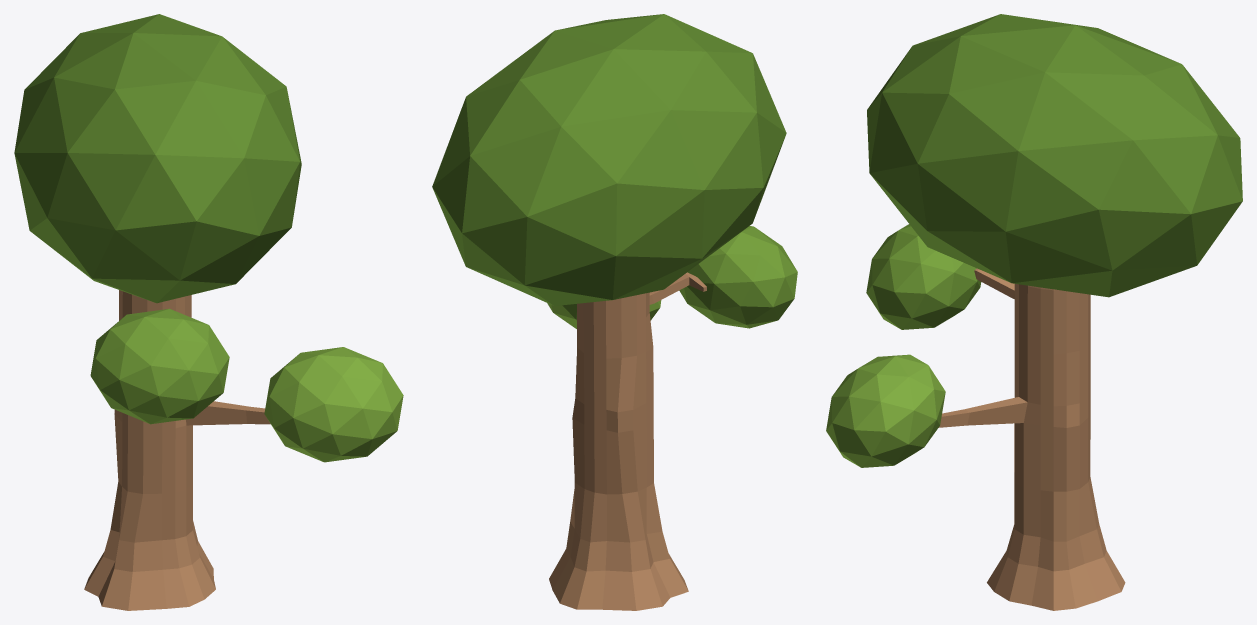
File: arbre_1.fbx
3 views of the same model, side by side, from view 1: azimuth 30°, elevation 25°; view 2: azimuth 150°, elevation 25°; view 3: azimuth 270°, elevation 25° (orthographic).
Visible parts, largest first — view 1: Icosphère.002, Cube, Icosphère, Icosphère.001; view 2: Icosphère.002, Cube, Icosphère.001, Icosphère; view 3: Icosphère.002, Cube, Icosphère, Icosphère.001.
Part boxes in pixels (x1,y1,x2,y2): Icosphère.002: [14, 14, 301, 303]; Cube: [84, 290, 270, 610]; Icosphère: [264, 347, 403, 462]; Icosphère.001: [90, 308, 229, 424]; Icosphère.002: [432, 14, 786, 305]; Cube: [549, 272, 706, 610]; Icosphère.001: [679, 226, 797, 328]; Icosphère: [547, 300, 661, 328]; Icosphère.002: [867, 14, 1242, 297]; Cube: [938, 268, 1125, 610]; Icosphère: [826, 354, 945, 467]; Icosphère.001: [866, 224, 981, 329].
Size of the model in its own units: 1282 by 2344 by 1606.
